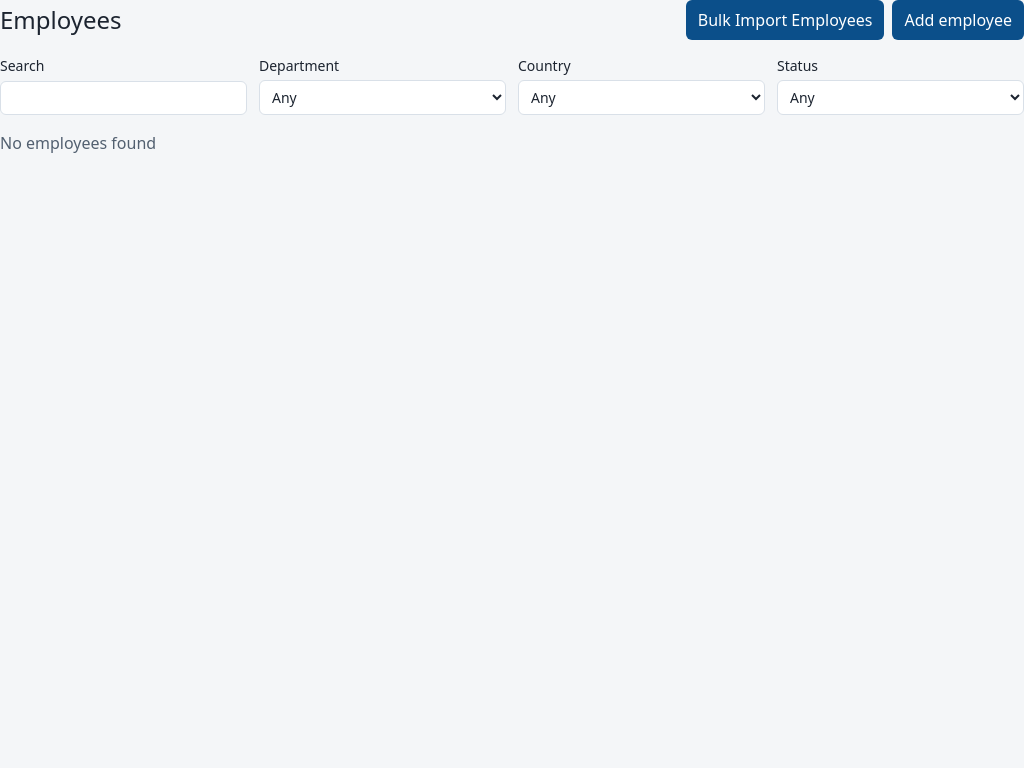
EmployeeListPage search › adds an employee from the dialog
Click the button "Add employee" at (958, 20), box left=892, top=0, right=1023, bottom=40
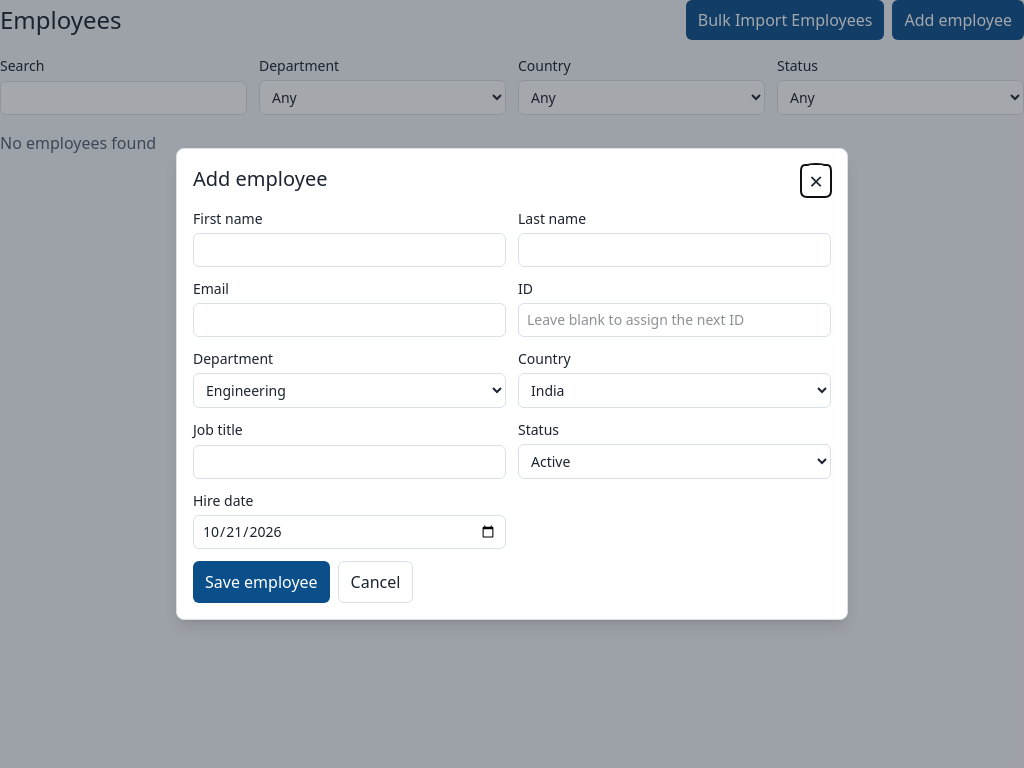
Type "Ada" into the field labelled "First name" at (350, 250), box left=193, top=233, right=506, bottom=267
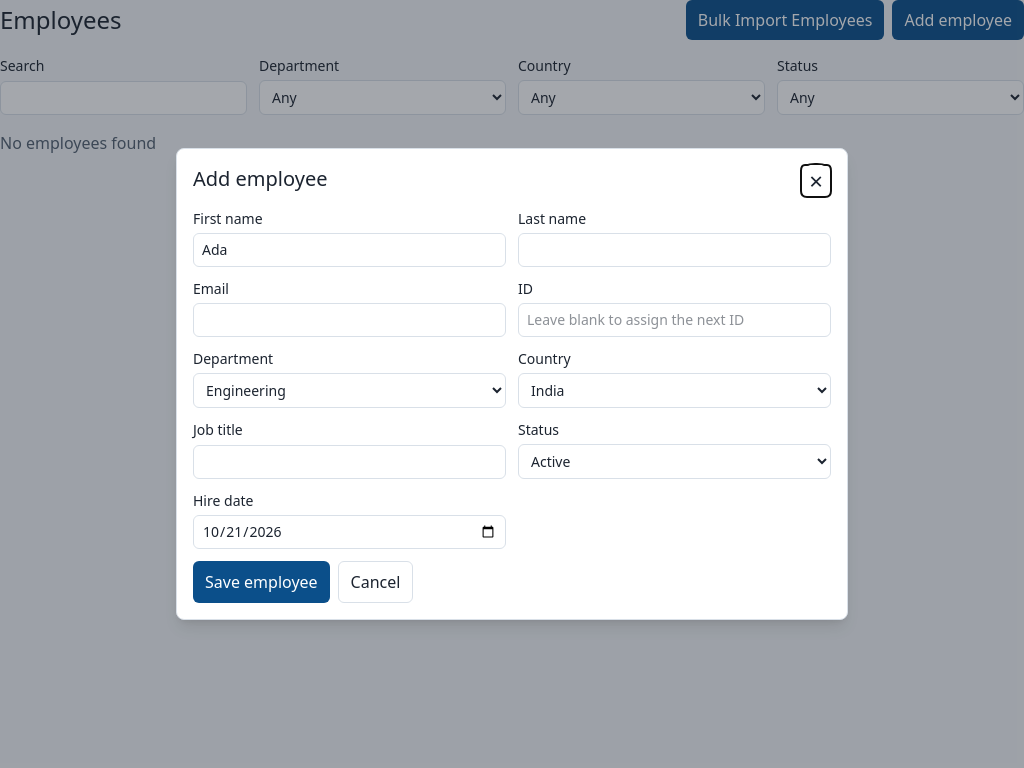
Type "Lovelace" into the field labelled "Last name" at (674, 250), box left=518, top=233, right=831, bottom=267
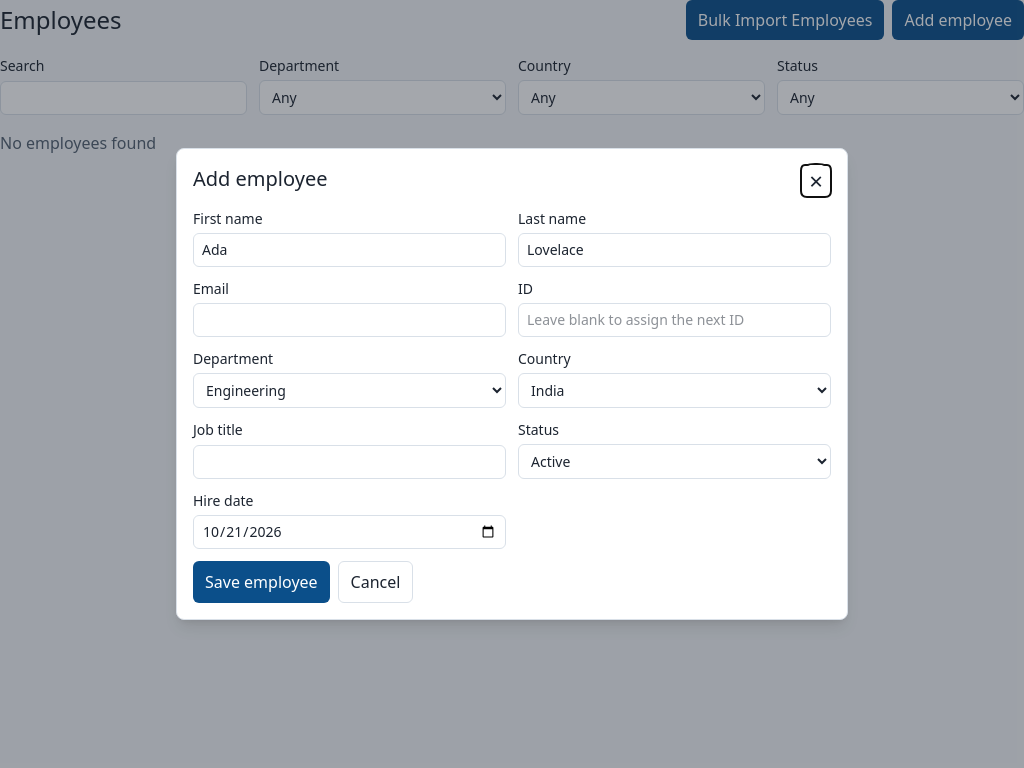
Type "ada@example.test" into the field labelled "Email" at (350, 320), box left=193, top=303, right=506, bottom=337
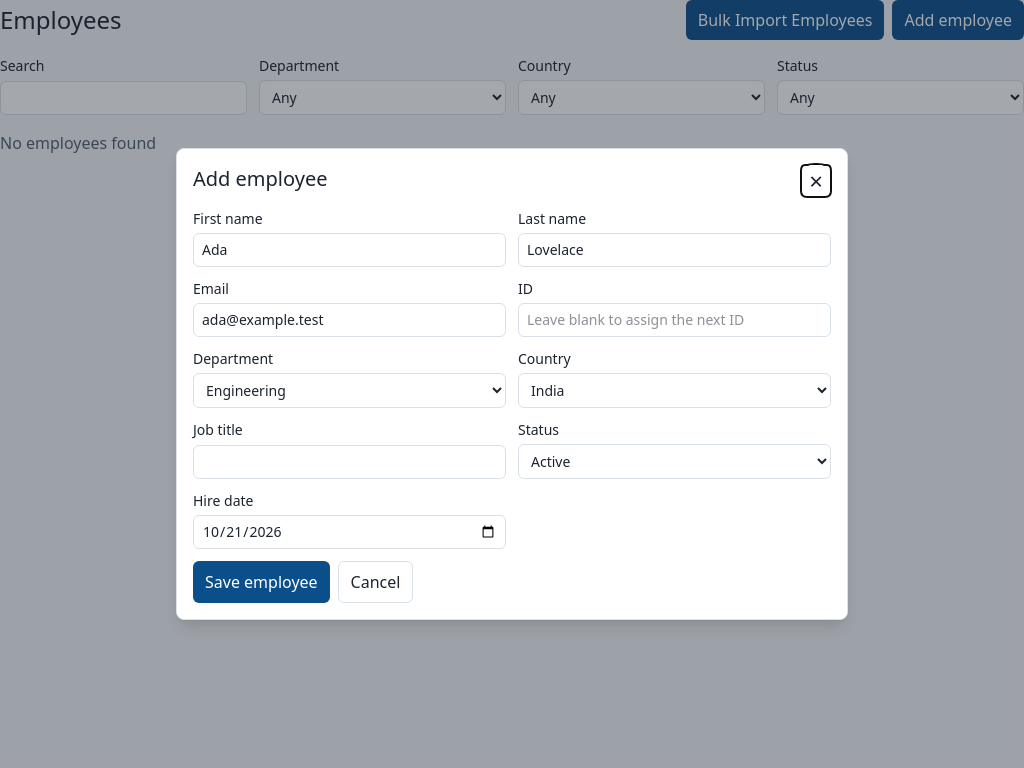
Type "Engineer" into the field labelled "Job title" at (350, 462), box left=193, top=444, right=506, bottom=479
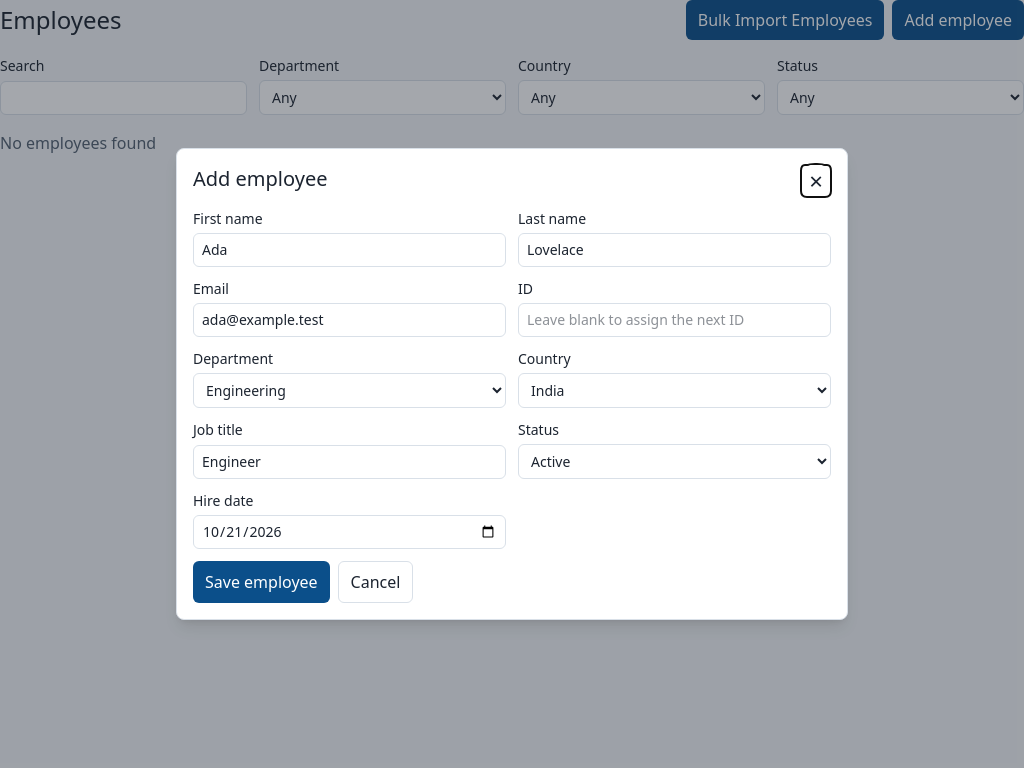
Click the button "Save employee" at (261, 582), box left=193, top=561, right=330, bottom=603
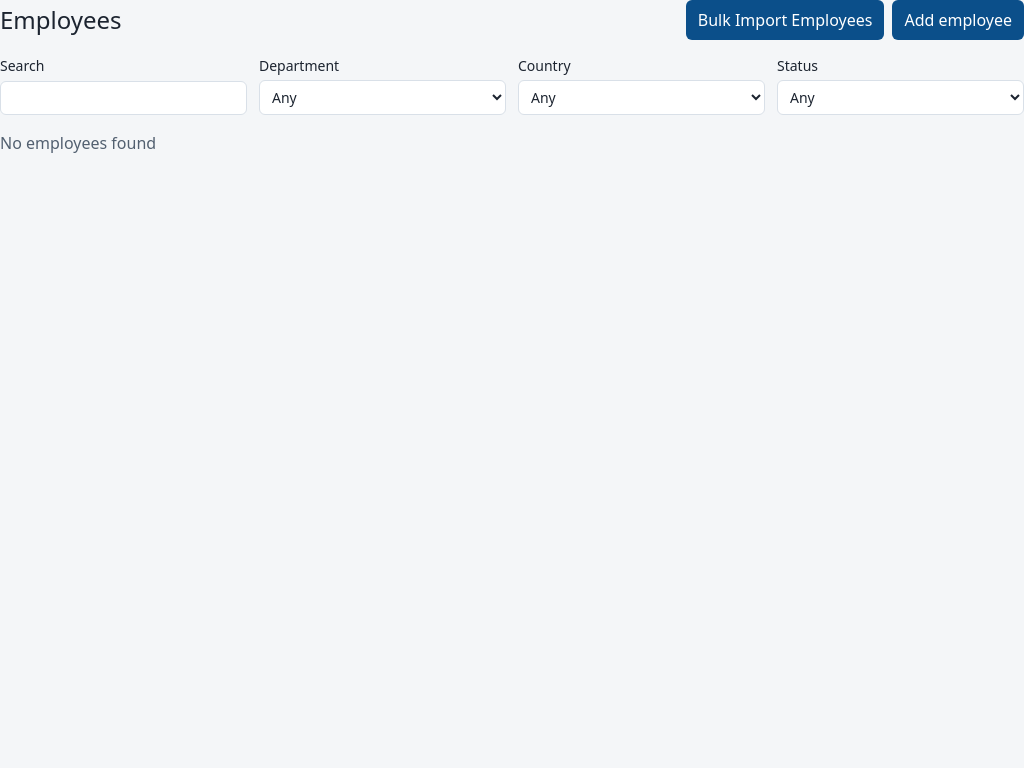
Expected: the dialog is gone
